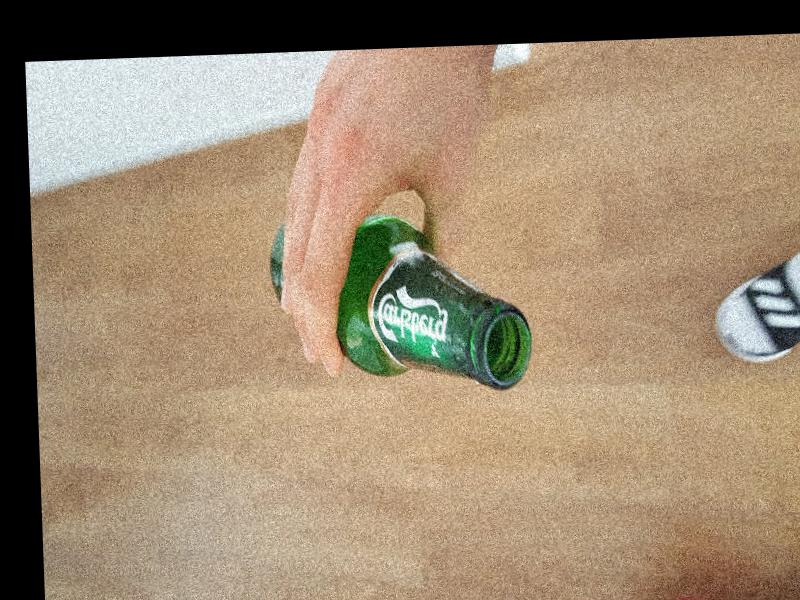Beer: (269, 211, 532, 400)
